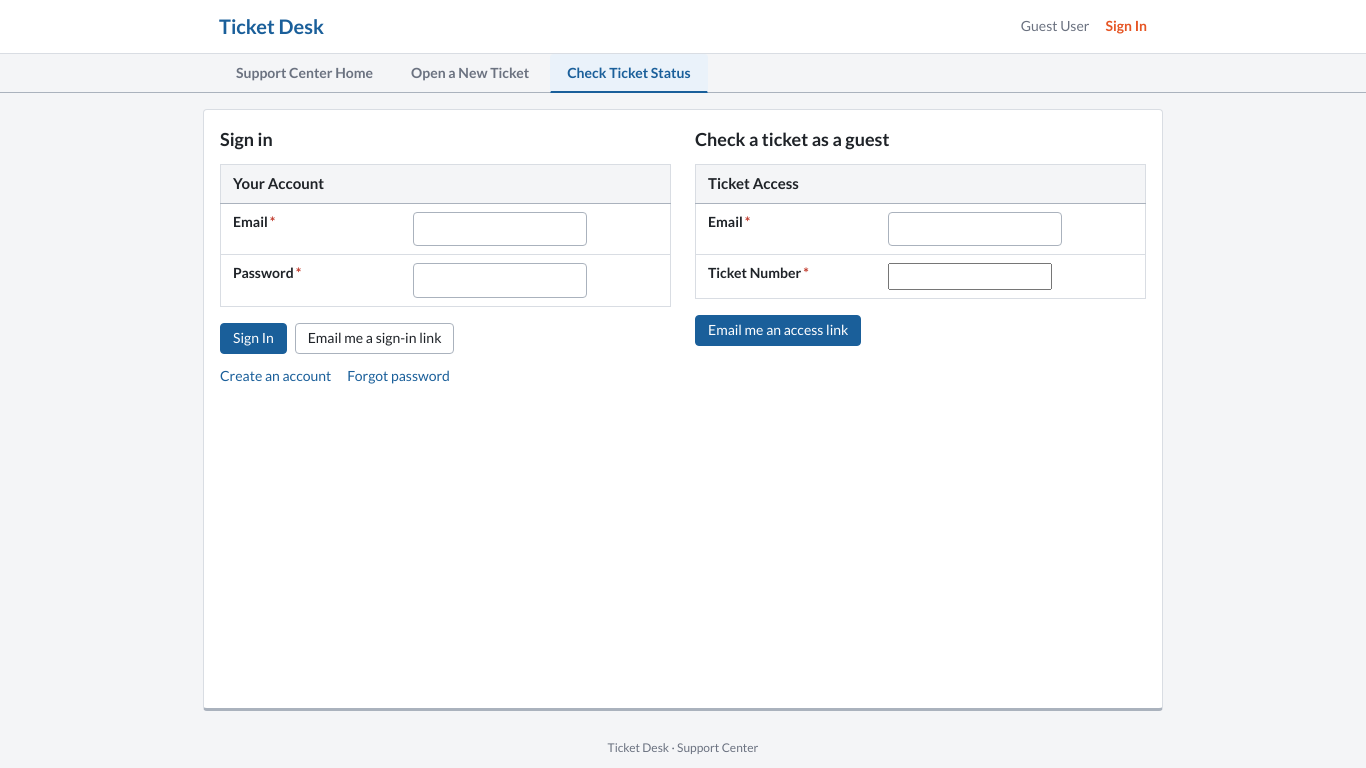
Scenario: password sign-in posts { email, password } and goes to the ticket list
Expected: the heading "Sign in" is shown, 220,128 -> 273,150
Step 1. Type "pat@example.test" into the field labelled "Email*" below "Your Account" → (500,229), box 412,212 -> 586,246
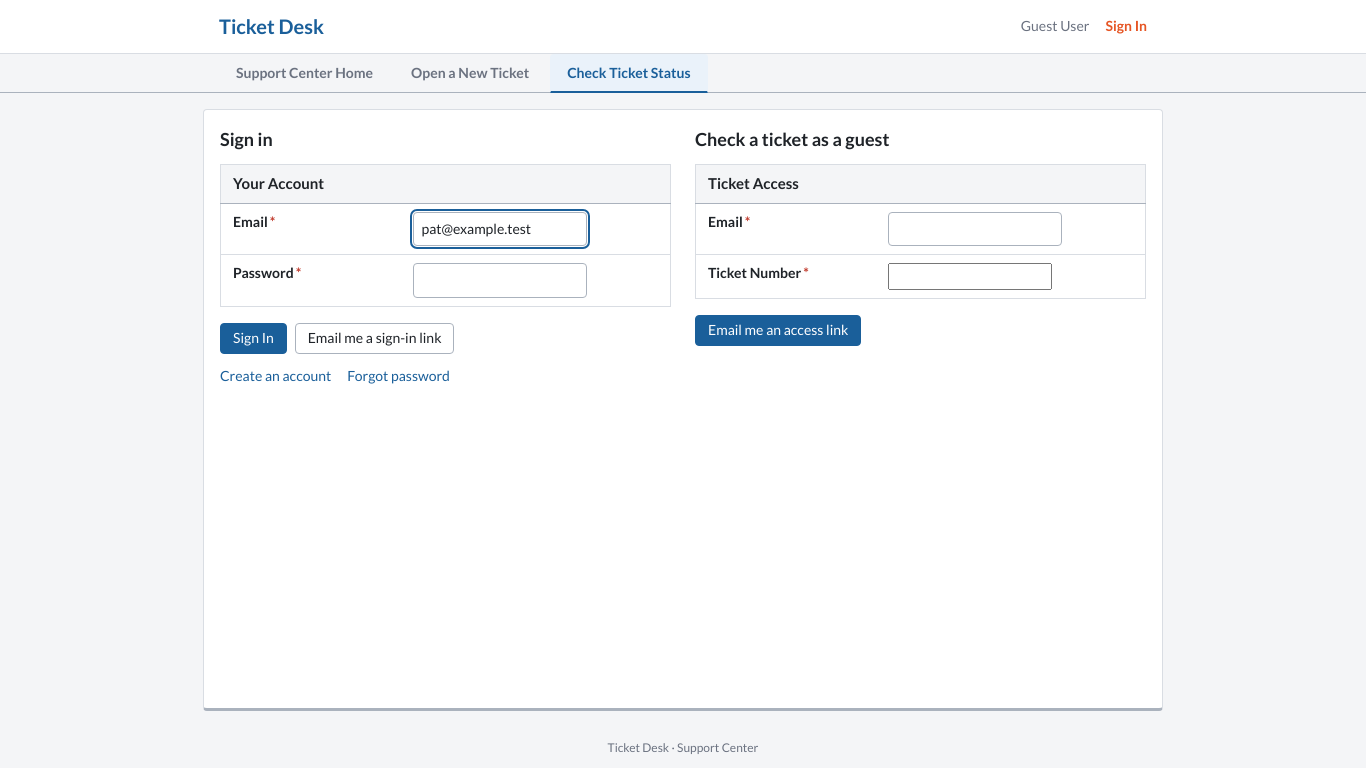
Step 2. Type "secret123" into the password field labelled "Password*" → (500,281), box 412,263 -> 586,298
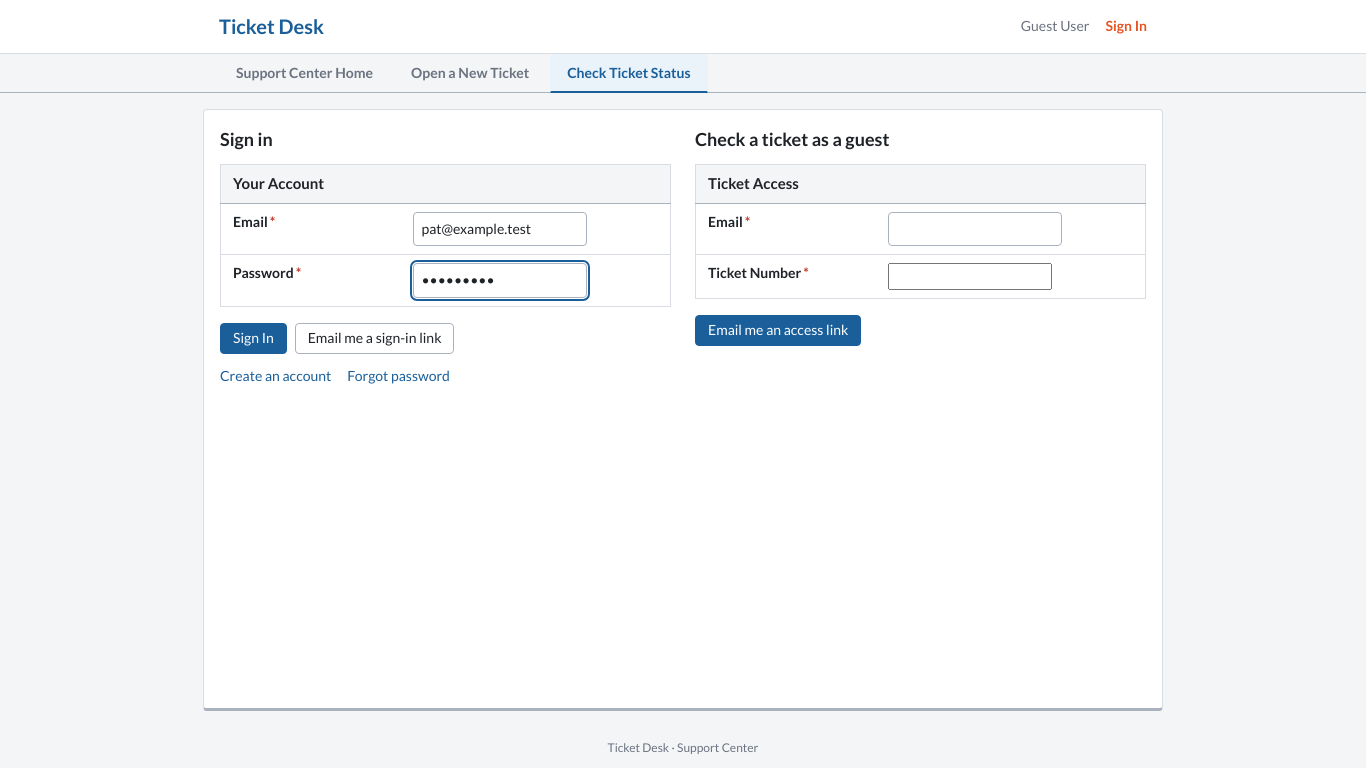
Step 3. Click the button "Sign In" → (253,338), box 220,323 -> 287,354
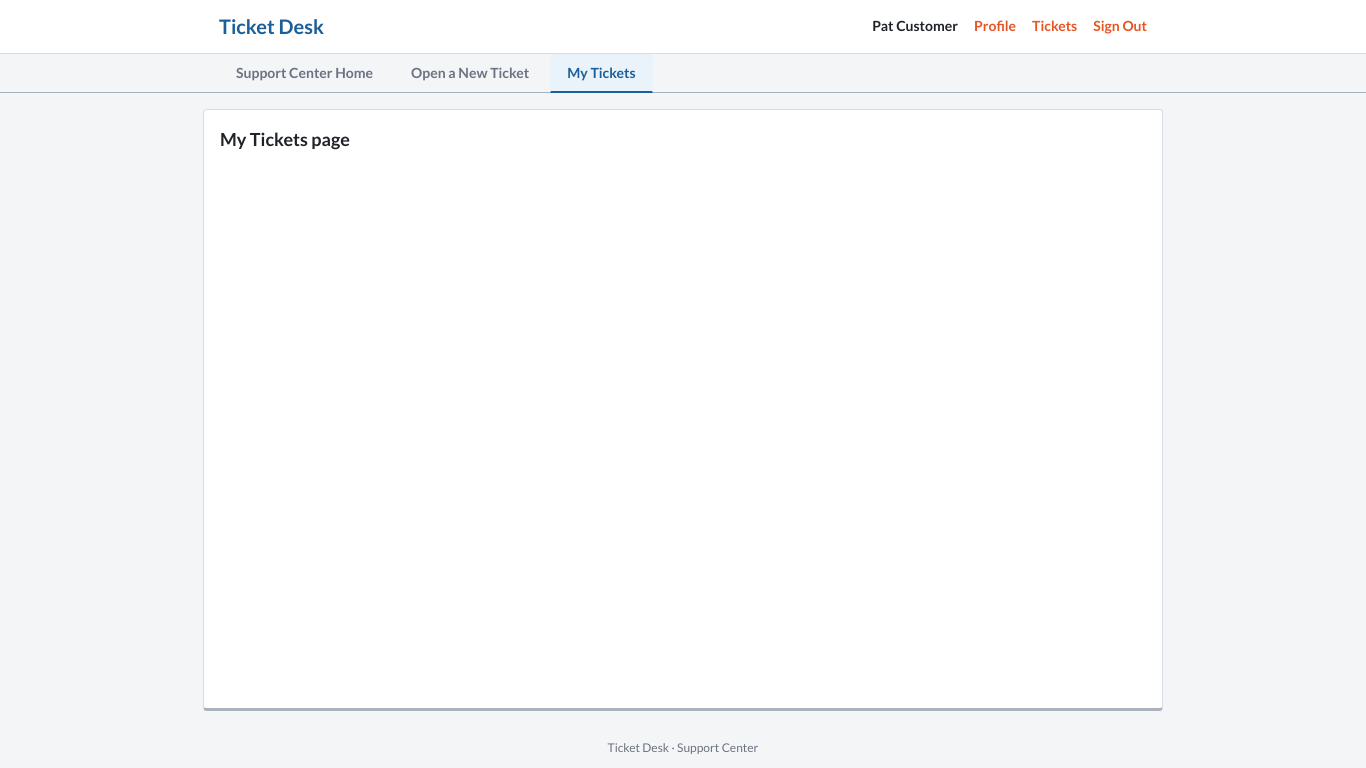
Result: the heading "My Tickets page" is shown at 220,128 -> 350,150
